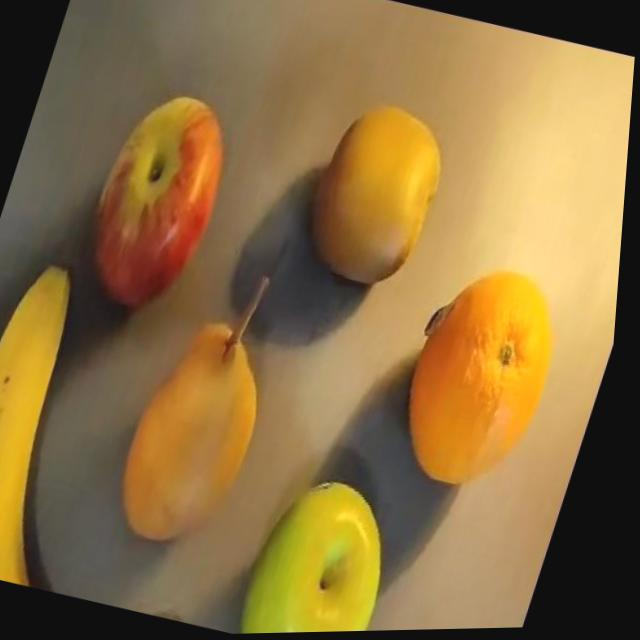Apple: (71, 82, 250, 321), (242, 467, 420, 635)
Banana: (0, 254, 133, 587)
Orange: (386, 255, 584, 503)
